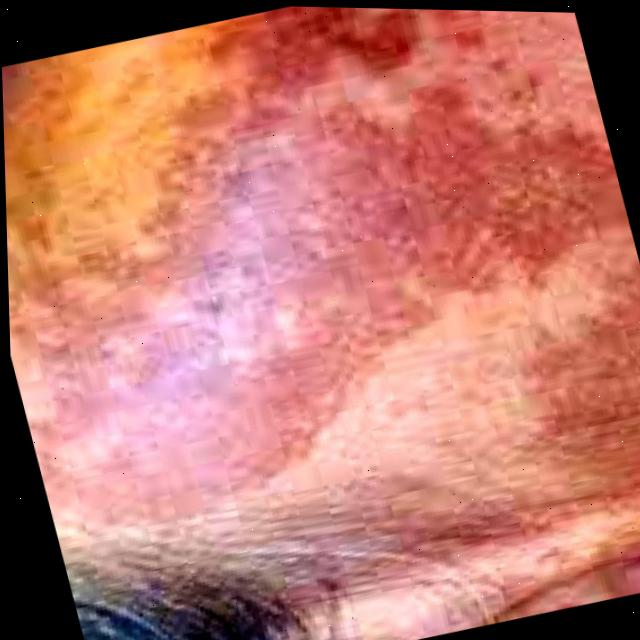Melasma: (0, 0, 627, 546)
